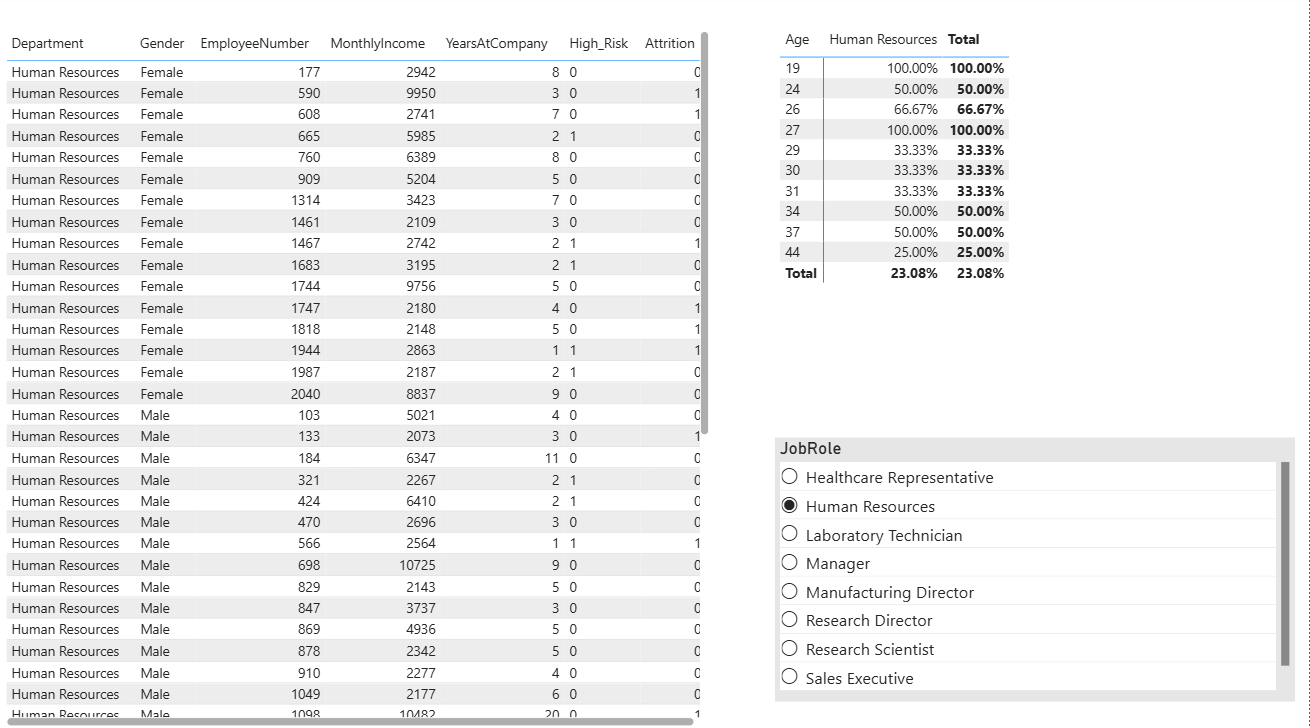

Layout of this report page (visuals, bound fields, positions):
{"tool":"powerbi","page":{"name":"Risk Analyzer","canvas":[1280,720],"ordinal":1},"visuals":[{"type":"tableEx","fields":{"Values":["HR_Data.Department","HR_Data.Gender","HR_Data.EmployeeNumber","HR_Data.MonthlyIncome","HR_Data.YearsAtCompany","HR_Data.High_Risk","HR_Data.Attrition"]},"box":[0,30,698.8,690],"z":0},{"type":"pivotTable","fields":{"Columns":["HR_Data.Department"],"Values":["Measure.Attrition Rate %"],"Rows":["HR_Data.Age"]},"box":[758.8,27.5,508.8,356.2],"z":1000},{"type":"listSlicer","fields":{"Values":["HR_Data.JobRole"]},"box":[758.8,432.5,508.8,258.8],"z":2000}]}

Visuals, with their boxes on the page's 1280x720 design canvas (x1, y1, x2, y2). These are canvas units, not pixel positions in the 1310x728 screenshot, which may show the page scaled, cropped or inside an application window:
tableEx - HR_Data.Department x HR_Data.Gender: crop(0, 30, 699, 720)
pivotTable - HR_Data.Department x Measure.Attrition Rate %: crop(759, 28, 1268, 384)
listSlicer - HR_Data.JobRole: crop(759, 432, 1268, 691)
